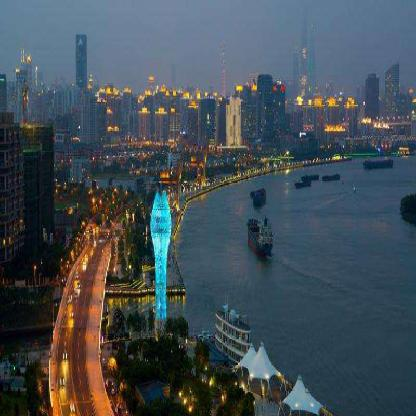other: (93, 70, 204, 128), (284, 87, 393, 136), (62, 248, 82, 404), (68, 185, 120, 238)
